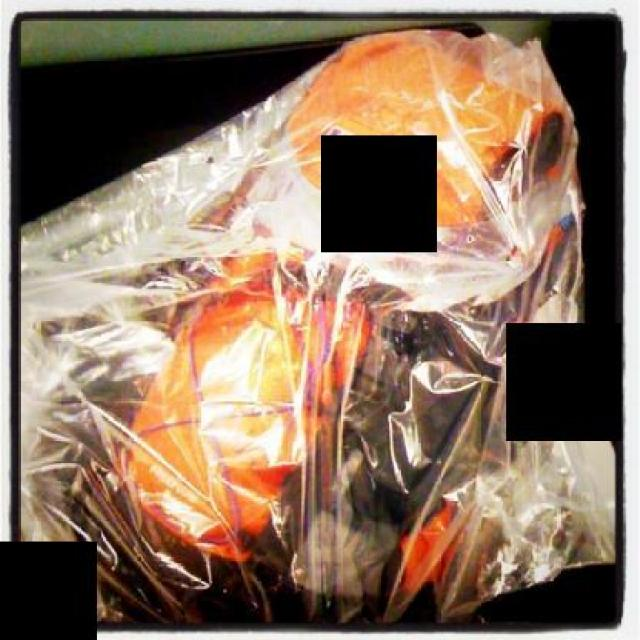plastic bag: (11, 28, 614, 623)
